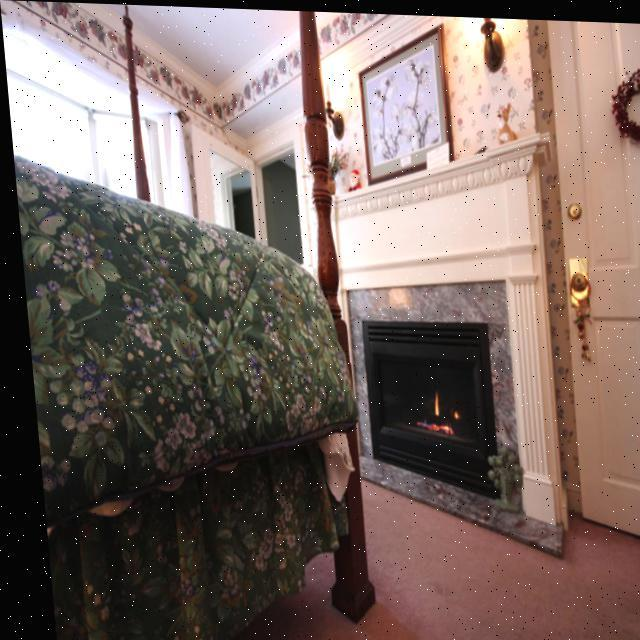Fire: (413, 384, 453, 436)
